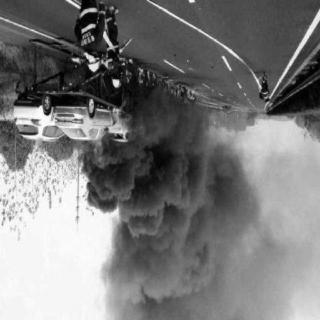other: (90, 59, 100, 75)
